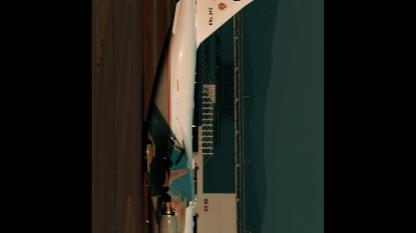C2: (142, 0, 263, 232)
